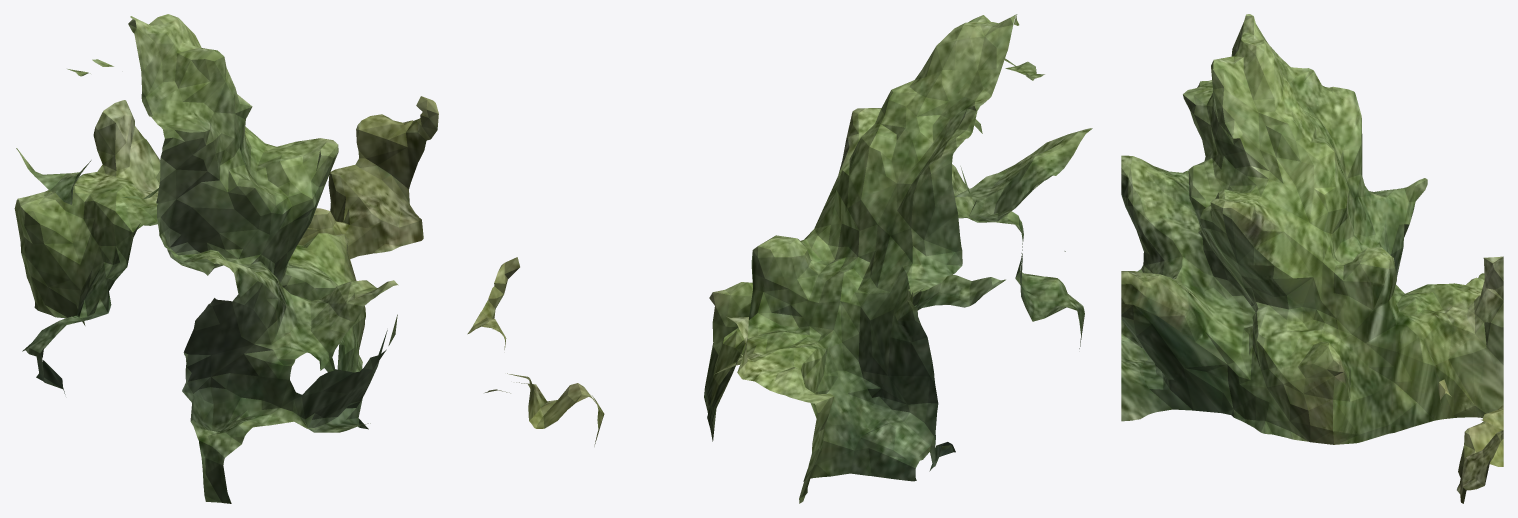
3 views of the same model, side by side, from view 1: azimuth 30°, elevation 25°; view 2: azimuth 150°, elevation 25°; view 3: azimuth 270°, elevation 25° (orthographic). The views are drawn at different scales.
Bounding box in the file's own units: 5.9 × 5.59 × 5.9.
Materials: 4 (4 with a texture image).
